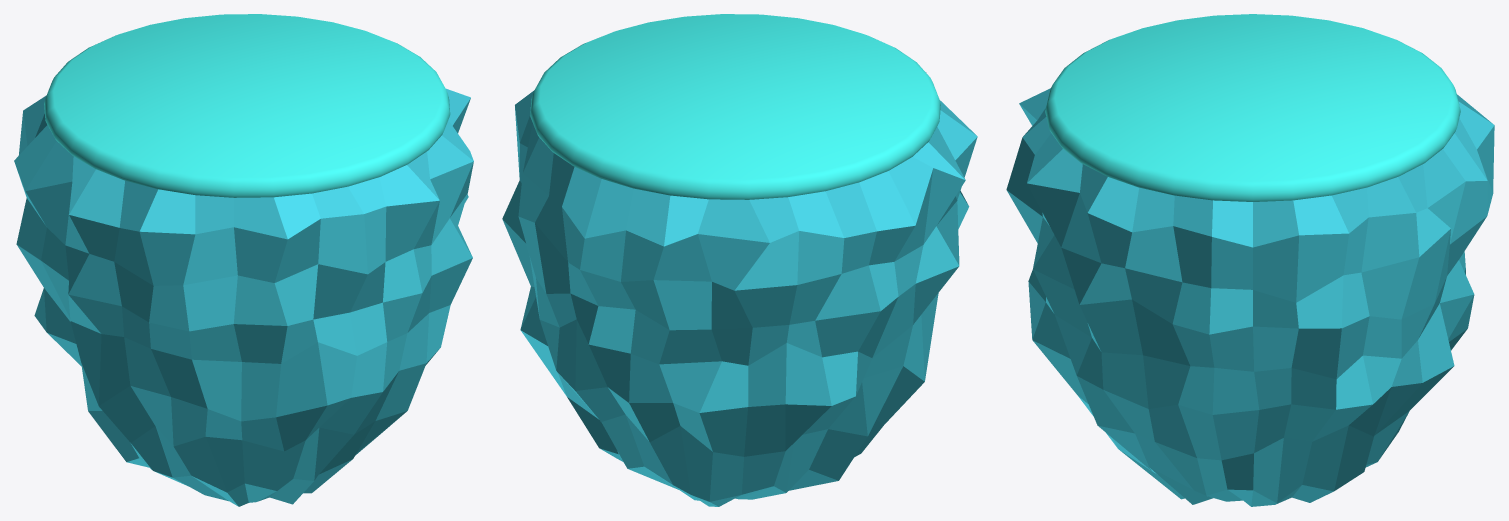
File: island6_Blue.fbx
3 views of the same model, side by side, from view 1: azimuth 30°, elevation 25°; view 2: azimuth 150°, elevation 25°; view 3: azimuth 270°, elevation 25° (orthographic). The views are drawn at different scales.
Visible parts, largest first — view 1: island(6); view 2: island(6); view 3: island(6).
Part boxes in pixels (<box>): island(6): <box>14,14,473,506</box>; island(6): <box>502,14,977,506</box>; island(6): <box>1006,14,1494,506</box>.
Size of the model in its own units: 35.51 by 31.92 by 36.15.
Materials: 1 (1 with a texture image).
